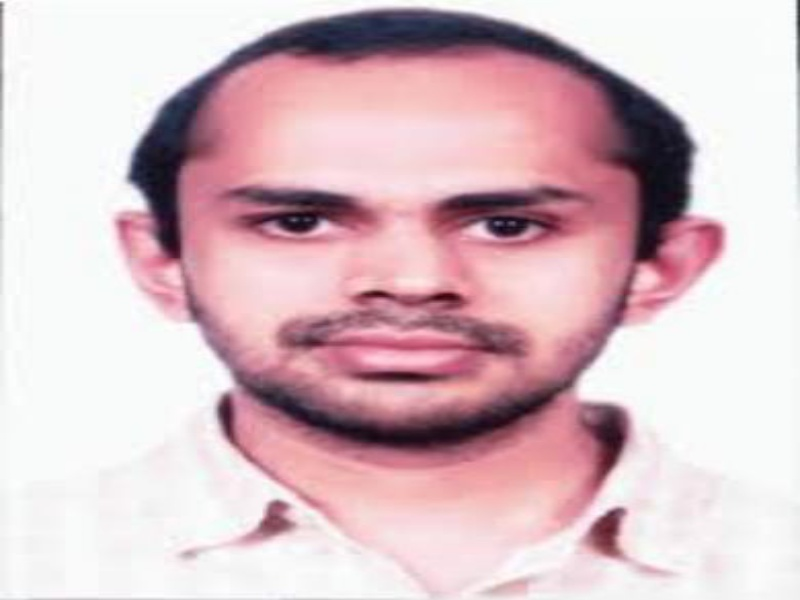TsisyArotava: (104, 5, 754, 478)
